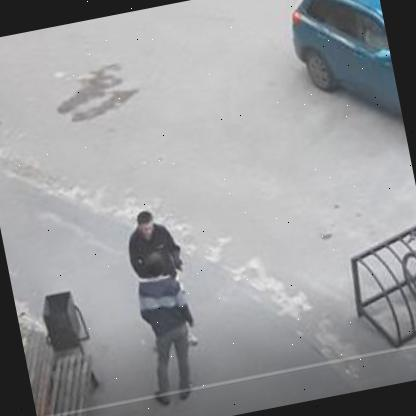person: (119, 239, 214, 407)
